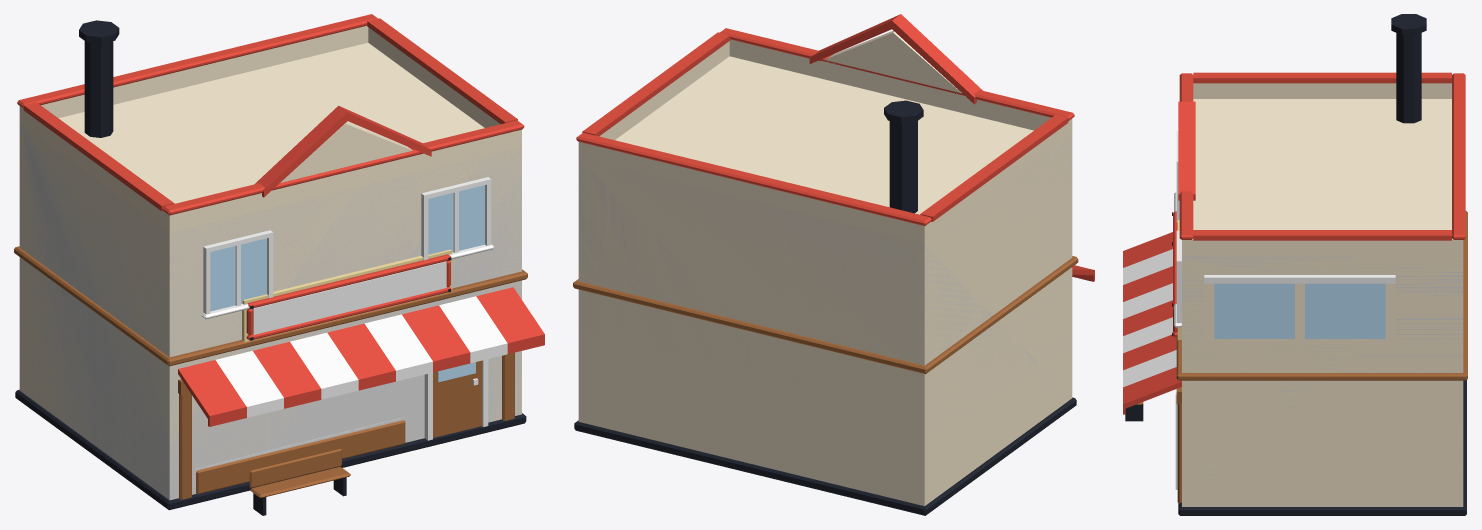
File: bakery.glb
3 renders of one model, left to right at view 1: azimuth 30°, elevation 25°; view 2: azimuth 150°, elevation 25°; view 3: azimuth 270°, elevation 25°, orthographic. The views are drawn at different scales.
Parts seen in each view (by area): view 1: bakery, COL_body, sign_board, sign_frame; view 2: bakery, COL_body; view 3: bakery, COL_body, sign_frame.
Part boxes in pixels (<box>): bakery: <box>14,14,544,515</box>; COL_body: <box>19,124,521,500</box>; sign_board: <box>252,261,446,334</box>; sign_frame: <box>242,249,452,342</box>; bakery: <box>573,14,1094,515</box>; COL_body: <box>578,139,1072,497</box>; bakery: <box>1123,14,1467,515</box>; COL_body: <box>1182,256,1463,504</box>; sign_frame: <box>1172,211,1181,340</box>.
Bounding box in the file's own units: 8.64 × 8.65 × 7.6.
